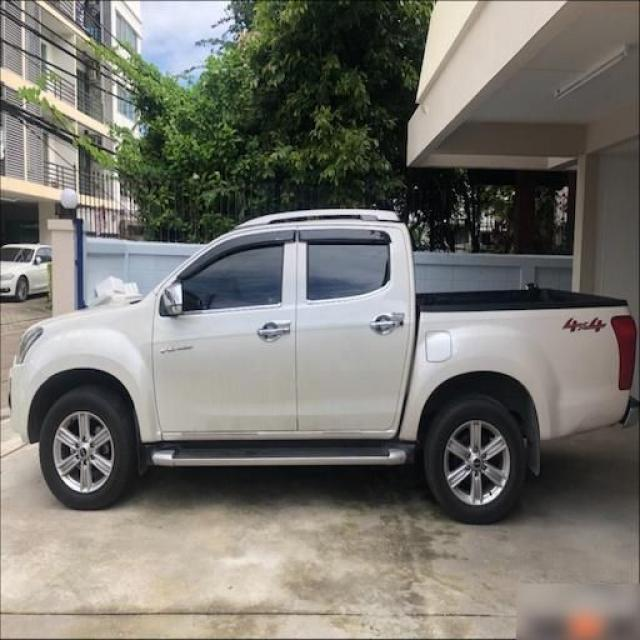back_left_door: (297, 223, 411, 433)
back_left_light: (615, 314, 637, 392)
front_left_door: (152, 225, 300, 432)
front_left_light: (12, 328, 47, 365)
left_mirror: (164, 280, 186, 314)
trunk: (398, 306, 633, 442)
wheel: (427, 394, 527, 525), (40, 389, 134, 510)
